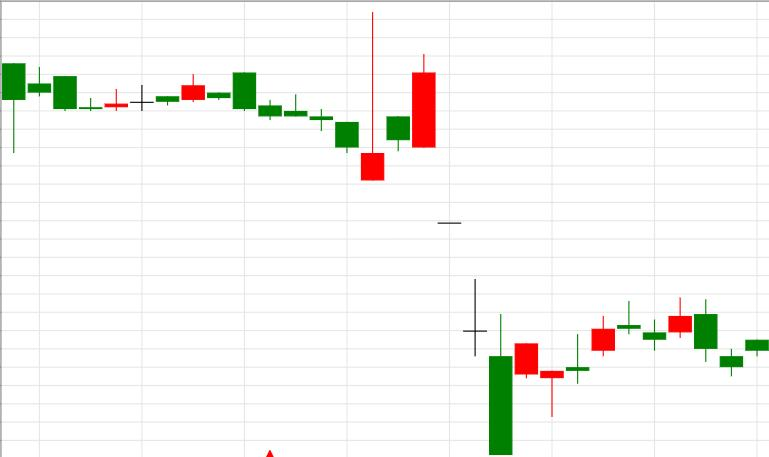inverse_hammer_rise: (233, 11, 384, 181)
